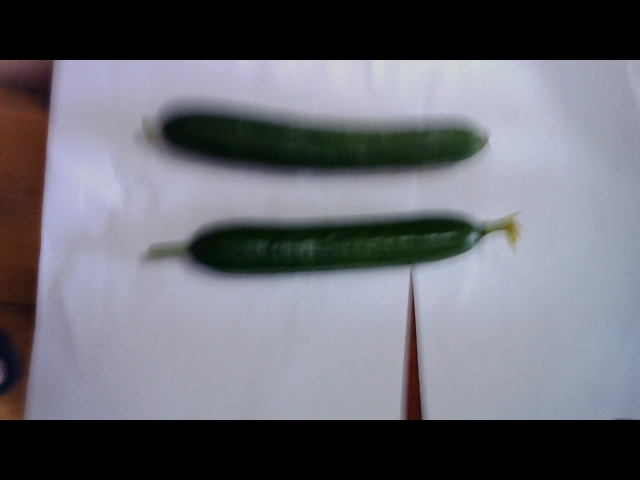cucumber: (142, 97, 495, 176), (171, 204, 525, 278)
